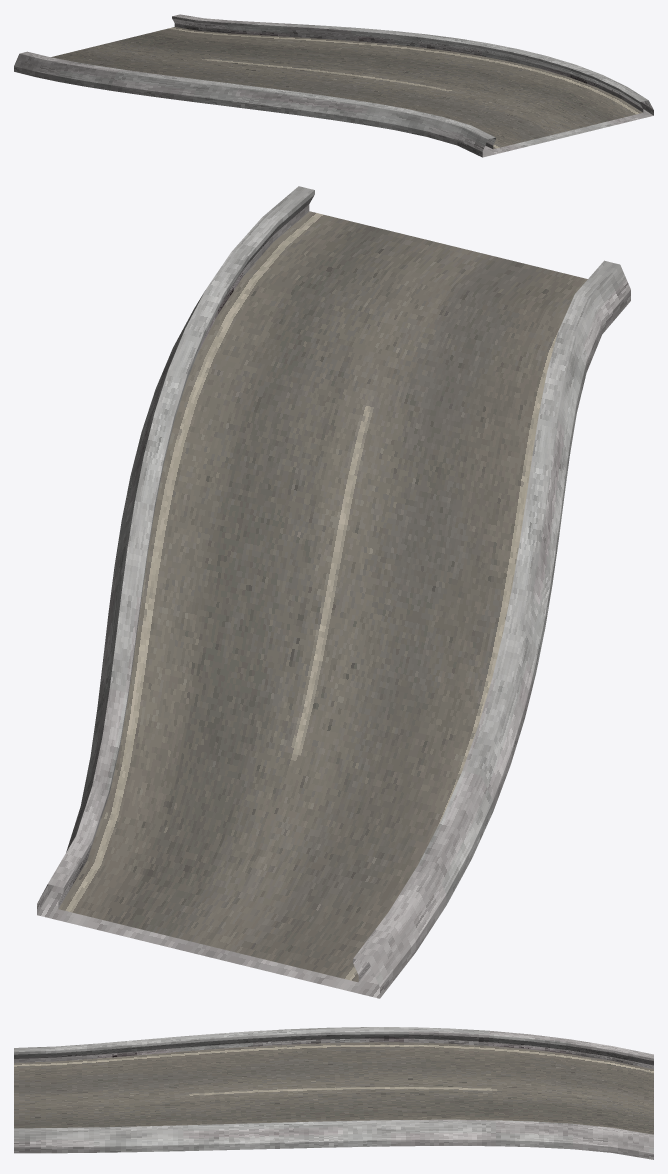
Rendered from road-Chicane-Flat-BiSlopeDown-Down2-Left1-Size3.glb.
The picture shows the model from 3 angles, top to bottom: view 1: azimuth 30°, elevation 25°; view 2: azimuth 150°, elevation 25°; view 3: azimuth 270°, elevation 25°; orthographic projection. The views are drawn at different scales.
Visible parts, largest first — view 1: road-Chicane-Flat-BiSlopeDown-Down2-Left1-Size3; view 2: road-Chicane-Flat-BiSlopeDown-Down2-Left1-Size3; view 3: road-Chicane-Flat-BiSlopeDown-Down2-Left1-Size3.
Boxes of the visible parts, bbox=[...] form: road-Chicane-Flat-BiSlopeDown-Down2-Left1-Size3: bbox=[14, 14, 653, 157]; road-Chicane-Flat-BiSlopeDown-Down2-Left1-Size3: bbox=[37, 186, 630, 998]; road-Chicane-Flat-BiSlopeDown-Down2-Left1-Size3: bbox=[14, 1027, 653, 1159].
Bounding box in the file's own units: 2 × 0.5938 × 3.
Materials: 2 (2 with a texture image).
